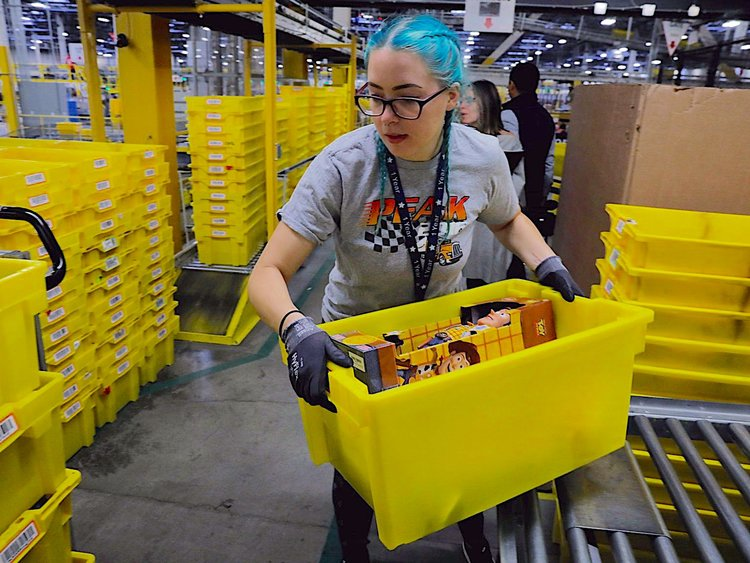noepi: (251, 13, 590, 563), (500, 59, 568, 221), (454, 78, 519, 166)
